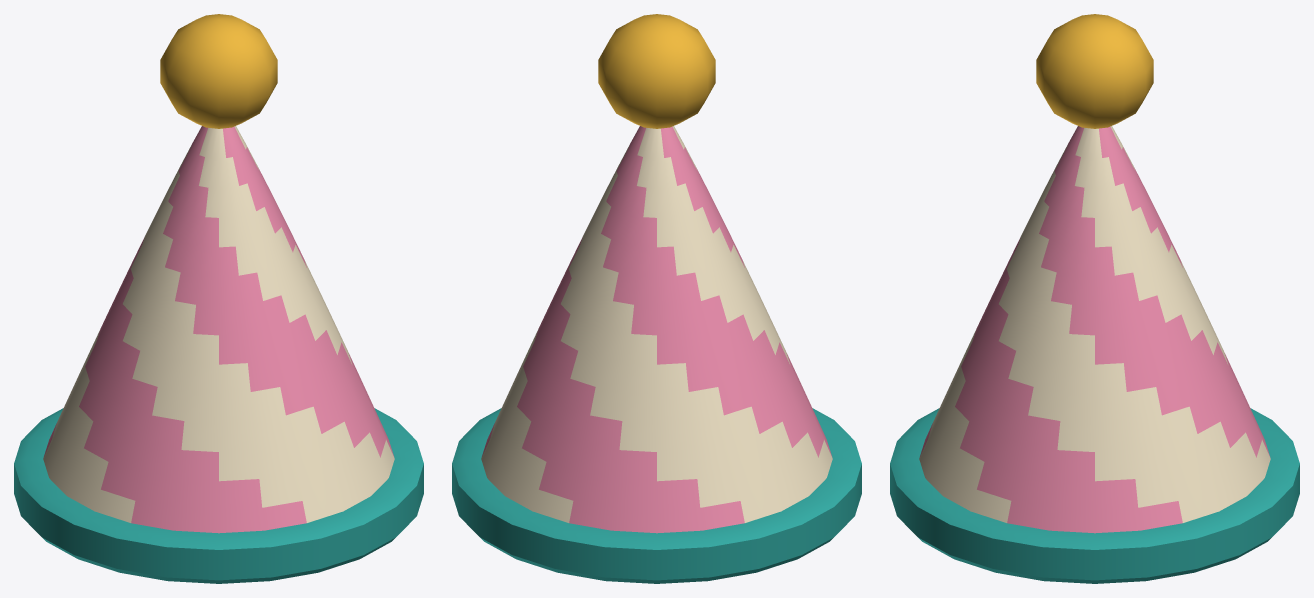
Rendered from hat_party_cone.glb.
The picture shows the model from 3 angles, left to right: view 1: azimuth 30°, elevation 25°; view 2: azimuth 150°, elevation 25°; view 3: azimuth 270°, elevation 25°; orthographic projection.
Visible parts, largest first — view 1: Hat; view 2: Hat; view 3: Hat.
Boxes of the visible parts, <box> form: Hat: <box>14,14,423,583</box>; Hat: <box>452,14,861,583</box>; Hat: <box>890,14,1299,583</box>.
Size of the model in its own units: 0.49 by 0.633 by 0.49.
